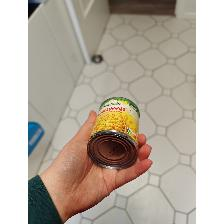Mais: (86, 97, 140, 170)
